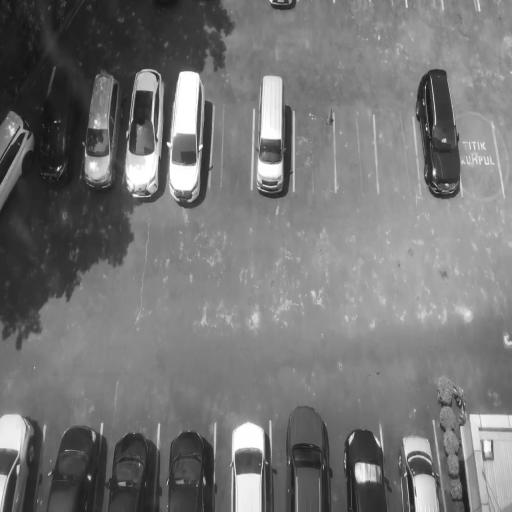Car: (411, 65, 466, 205), (160, 70, 211, 205), (121, 67, 169, 202), (78, 68, 127, 193), (33, 63, 81, 189), (42, 420, 104, 511), (282, 400, 330, 512), (253, 71, 289, 199), (0, 102, 40, 215), (0, 410, 44, 512), (342, 425, 390, 511), (105, 434, 157, 512), (227, 421, 267, 512), (396, 434, 441, 512), (166, 431, 209, 512)
Space Available: (330, 105, 379, 199), (374, 110, 422, 198), (209, 101, 254, 193), (458, 118, 504, 205), (294, 110, 333, 198)
